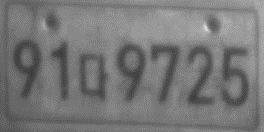1: (49, 40, 70, 101)
2: (186, 44, 217, 106)
5: (221, 45, 249, 107)
7: (149, 43, 181, 103)
9: (11, 39, 43, 99), (116, 42, 146, 102)
다: (78, 51, 110, 105)
